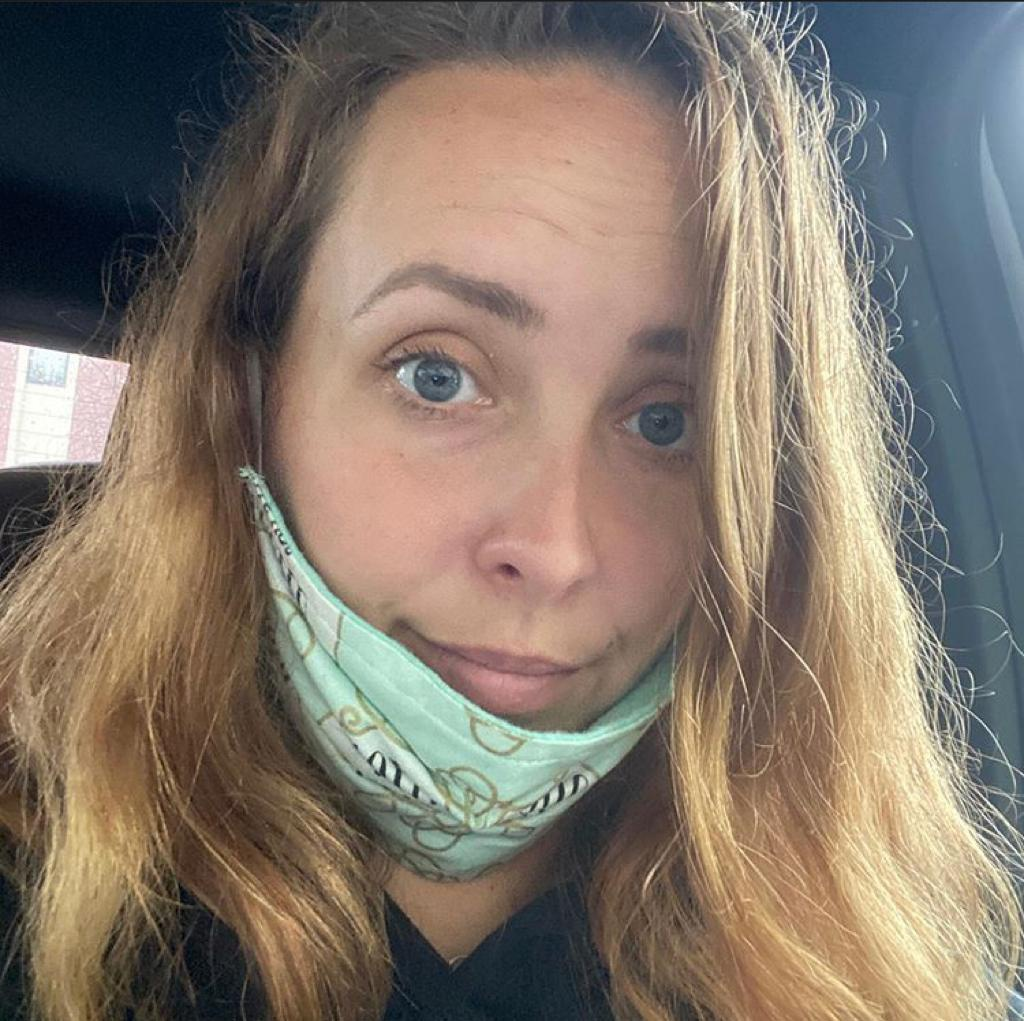mouth: (408, 624, 587, 718)
nose: (473, 534, 599, 598)
